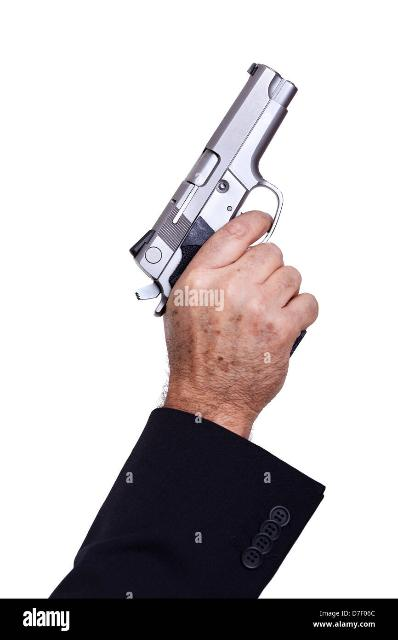handgun: (120, 49, 312, 368)
